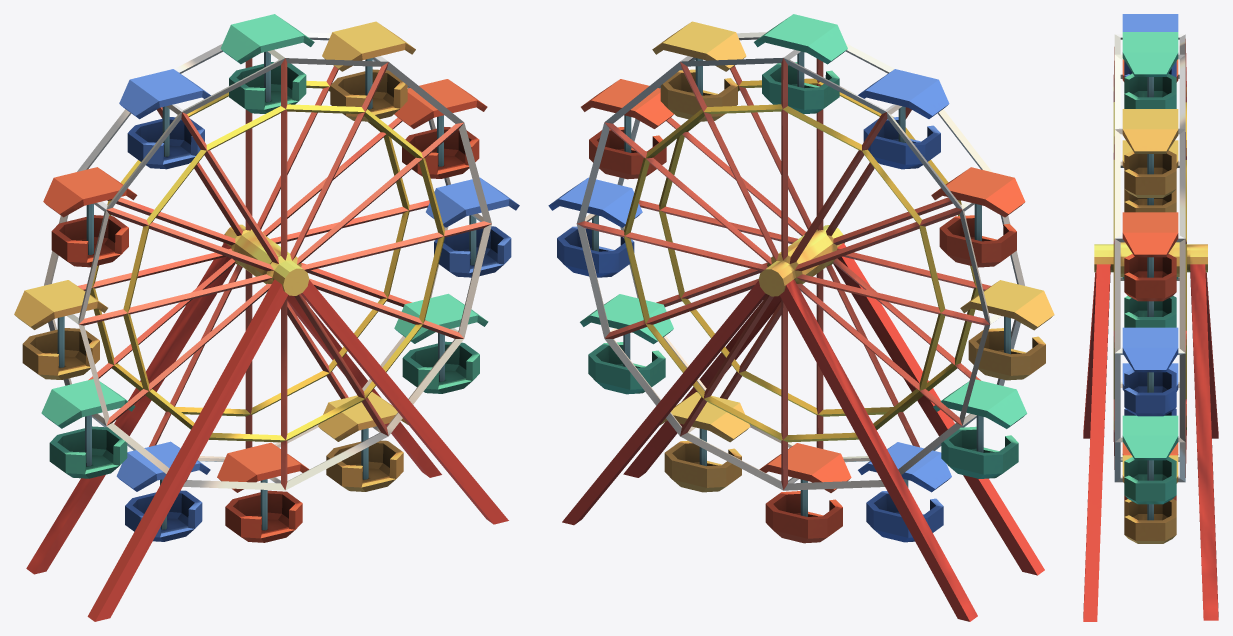
Rendered from ferriswheel.glb.
3 renders of one model, left to right at view 1: azimuth 30°, elevation 25°; view 2: azimuth 150°, elevation 25°; view 3: azimuth 270°, elevation 25°, orthographic. The views are drawn at different scales.
Parts seen in each view (by area): view 1: ferris_wheel; view 2: ferris_wheel; view 3: ferris_wheel.
Boxes of the visible parts, <box> form: ferris_wheel: <box>14,14,519,621</box>; ferris_wheel: <box>548,14,1054,621</box>; ferris_wheel: <box>1083,14,1218,621</box>.
Bounding box in the file's own units: 2.25 × 2.26 × 0.5711.
Materials: 10 (10 with a texture image).
